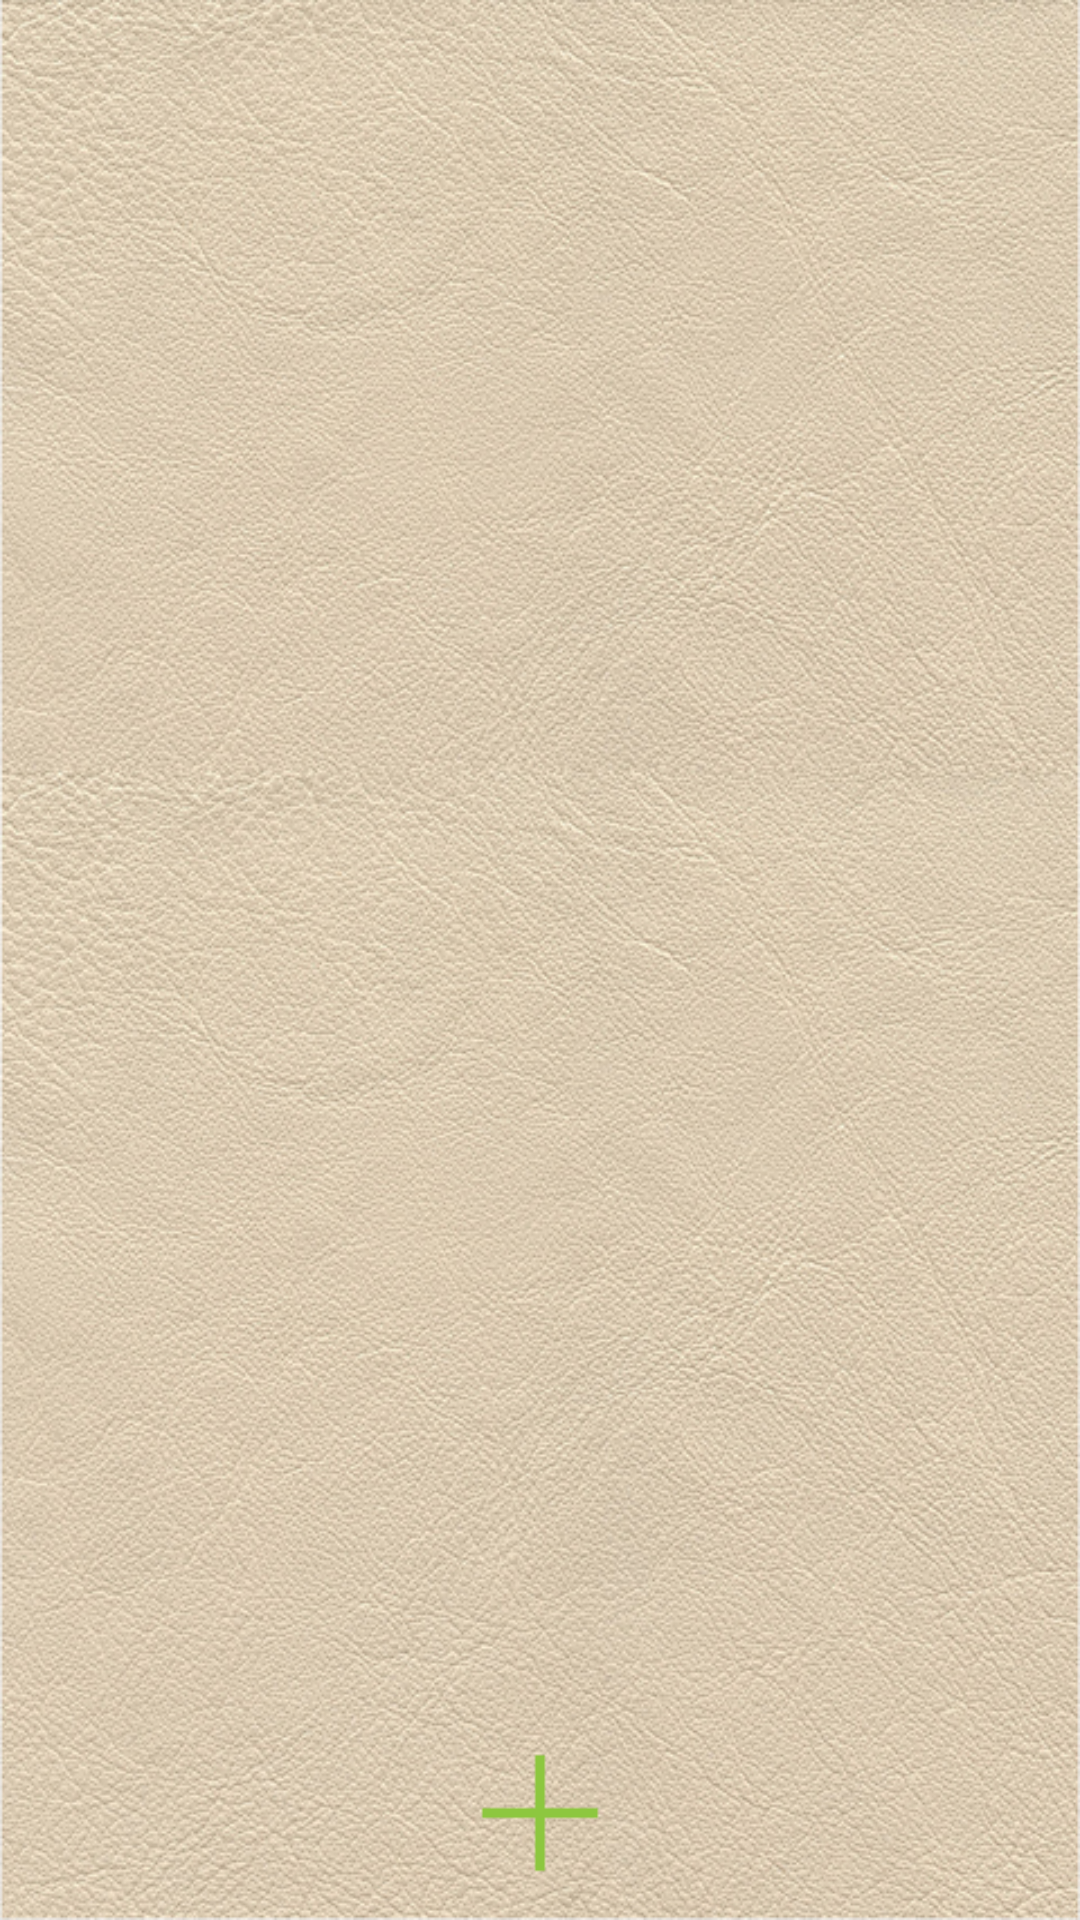

Icon click points for this 1080 x 1920 phone screenshot, format point (x, y):
create note: point (540, 1813)
